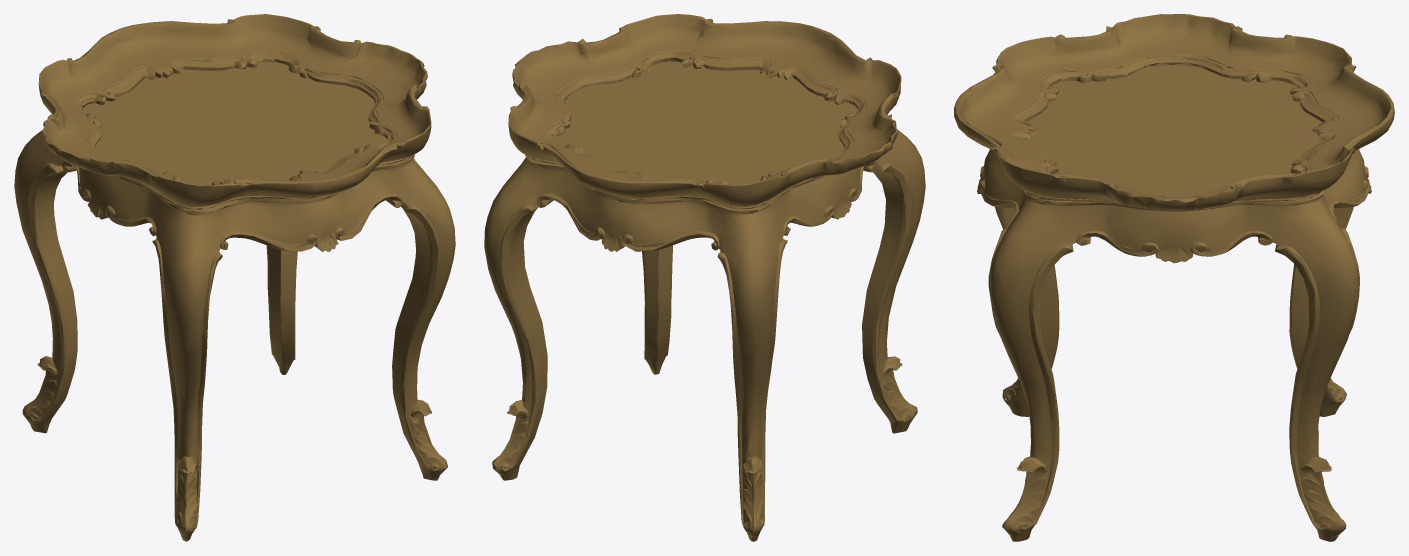
3 renders of one model, left to right at view 1: azimuth 30°, elevation 25°; view 2: azimuth 150°, elevation 25°; view 3: azimuth 270°, elevation 25°, orthographic. The views are drawn at different scales.
Parts seen in each view (by area): view 1: Corner/Side_Table_raw_model.031; view 2: Corner/Side_Table_raw_model.031; view 3: Corner/Side_Table_raw_model.031.
Boxes of the visible parts, bbox=[...] form: Corner/Side_Table_raw_model.031: bbox=[14, 14, 455, 541]; Corner/Side_Table_raw_model.031: bbox=[484, 14, 925, 541]; Corner/Side_Table_raw_model.031: bbox=[954, 14, 1394, 541].
Size of the model in its own units: 0.6018 by 0.5595 by 0.6001.
